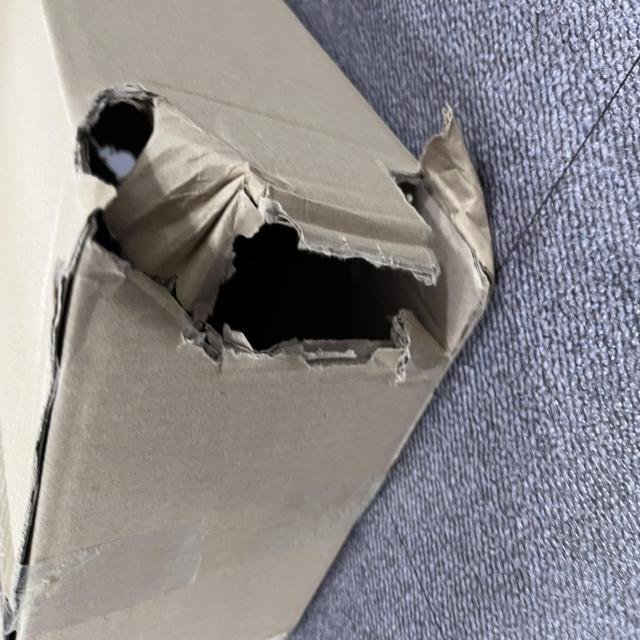damaged: (196, 228, 354, 626), (341, 89, 416, 219)
